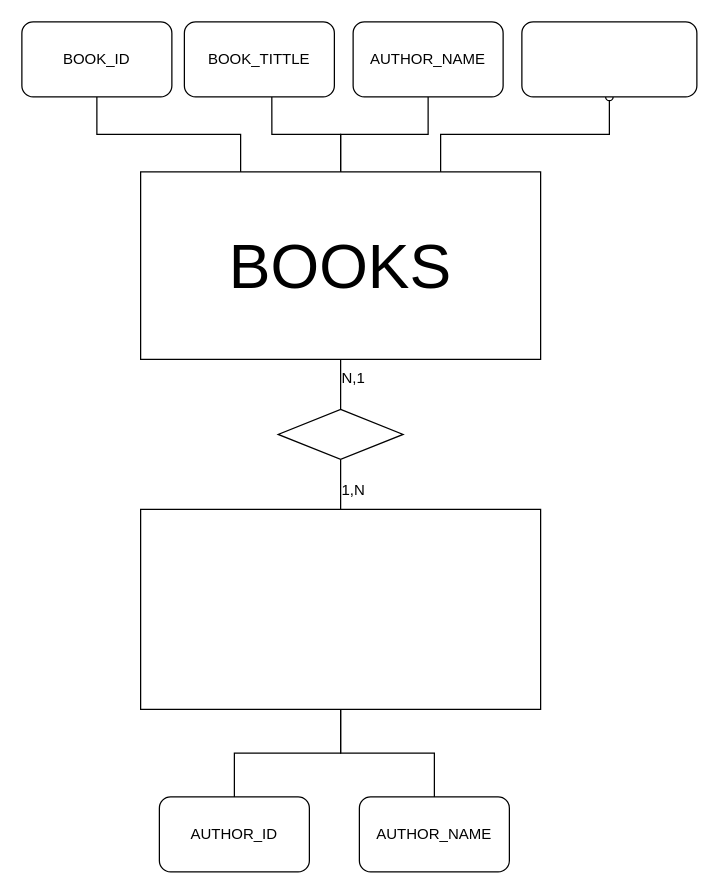
The diagram is 719 pixels wide and 894 high, and some of its shapes have lost their labels. Each missing label, with the centre of its shape:
"AUTHORS" belongs at point (340, 608).
"BOOK_DESCRIPTION" belongs at point (609, 59).
"WROTE BY" belongs at point (340, 433).
